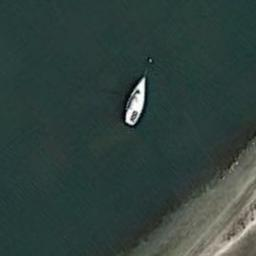boat: (121, 75, 147, 128)
